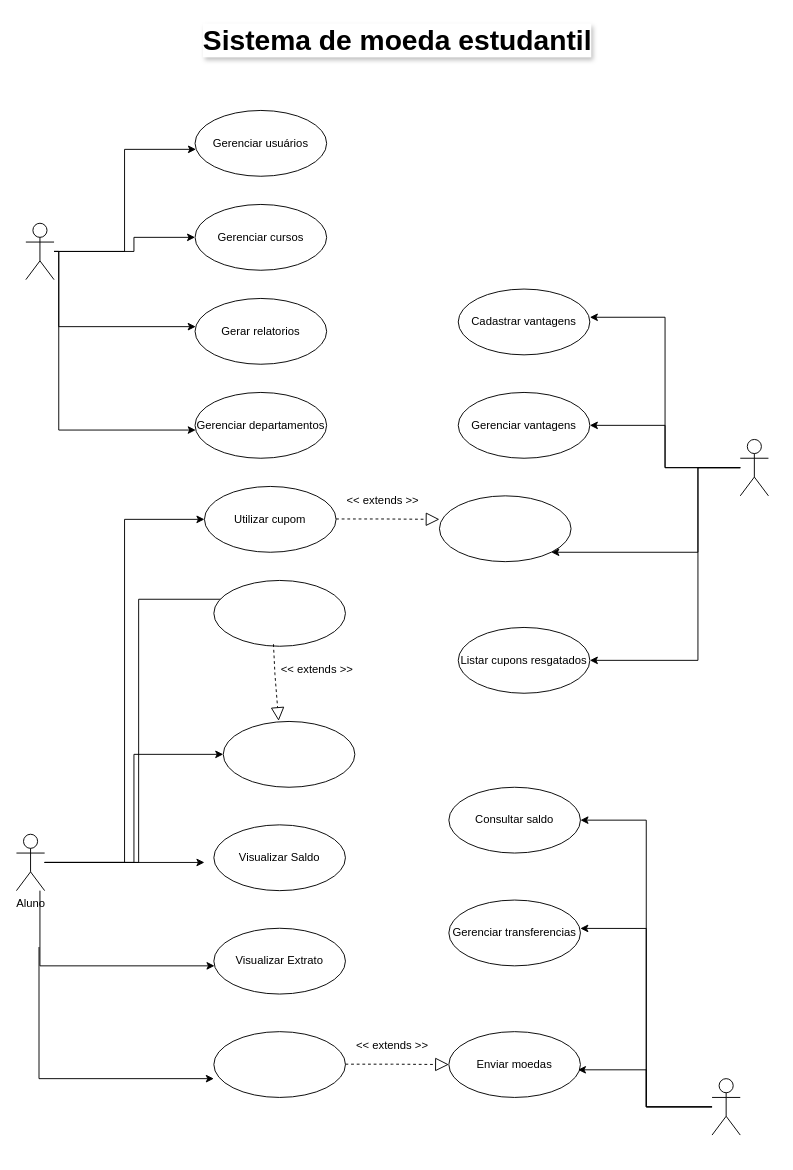
This 793x1170 diagram has some shape labels left out. The shapes that lost their labels are listed below. From the top down, each one's centre as x and y in pixels, then its label:
the point at 39,251: Admin
the point at 753,467: Empresa
the point at 505,528: Validar cupom
the point at 279,613: Visualizar cupons
the point at 288,754: Resgatar vantagem
the point at 279,1064: Receber moedas
the point at 725,1106: Professor
